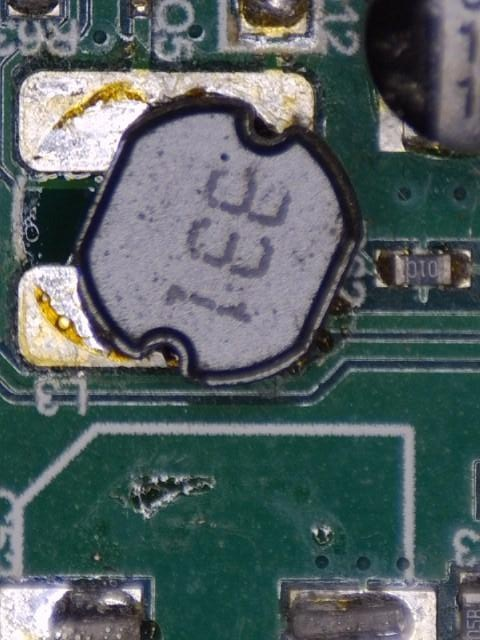pcb_defect: (17, 68, 364, 387)
